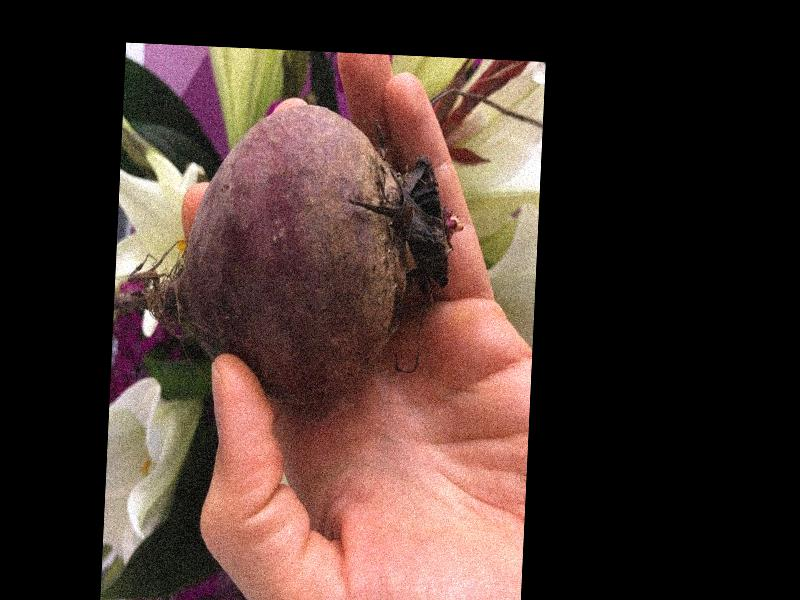Beet: (111, 94, 466, 410)
